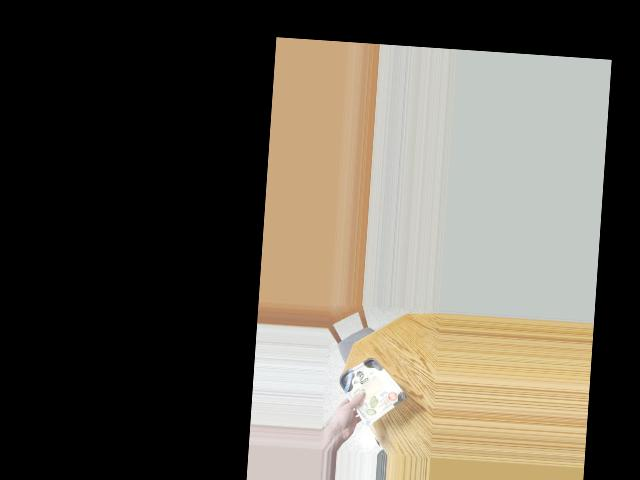cheese: (342, 355, 401, 416)
